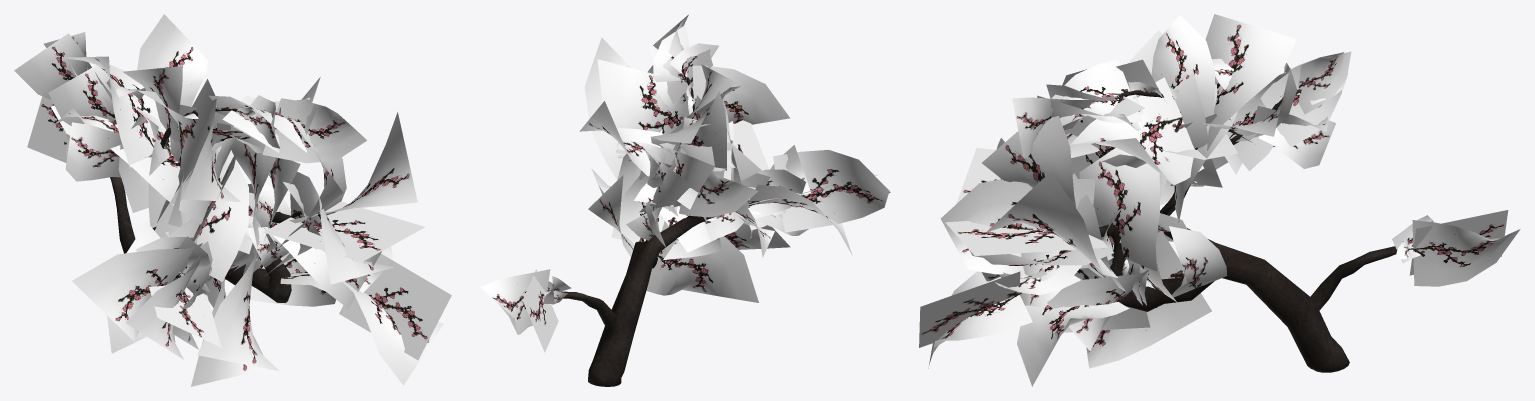
Rendered from Arbol.obj.
3 views of the same model, side by side, from view 1: azimuth 30°, elevation 25°; view 2: azimuth 150°, elevation 25°; view 3: azimuth 270°, elevation 25° (orthographic). The views are drawn at different scales.
Parts seen in each view (by area): view 1: group2 Plane081, group2 Plane031, group2 Plane025, group2 Plane032, group2 Plane016, group2 Plane071, group2 Plane068, group2 Plane042, group2 Plane020, group2 Plane005, group2 Loft001, group2 Plane011 (+33 smaller); view 2: group2 Loft001, group2 Plane081, group2 Plane070, group2 Plane056, group2 Plane061, group2 Plane042, group2 Plane011, group2 Plane068, group2 Plane029, group2 Plane020, group2 Plane035, group2 Plane054 (+26 smaller); view 3: group2 Loft001, group2 Plane067, group2 Plane042, group2 Plane056, group2 Plane029, group2 Plane070, group2 Plane005, group2 Plane075, group2 Plane068, group2 Plane021, group2 Plane072, group2 Plane031 (+26 smaller).
Part boxes in pixels (<box>): group2 Plane081: <box>72,243,202,340</box>; group2 Plane031: <box>339,253,451,360</box>; group2 Plane025: <box>154,146,248,281</box>; group2 Plane032: <box>263,201,425,261</box>; group2 Plane016: <box>262,98,366,163</box>; group2 Plane071: <box>197,243,279,371</box>; group2 Plane068: <box>289,112,417,223</box>; group2 Plane042: <box>62,56,160,167</box>; group2 Plane020: <box>137,14,208,106</box>; group2 Plane005: <box>290,171,394,284</box>; group2 Loft001: <box>75,75,295,302</box>; group2 Plane011: <box>65,122,121,181</box>; group2 Loft001: <box>561,77,753,386</box>; group2 Plane081: <box>773,150,889,232</box>; group2 Plane070: <box>646,221,758,302</box>; group2 Plane056: <box>597,59,701,134</box>; group2 Plane061: <box>692,65,789,124</box>; group2 Plane042: <box>650,91,726,170</box>; group2 Plane011: <box>679,170,758,217</box>; group2 Plane068: <box>584,37,631,179</box>; group2 Plane029: <box>480,269,550,334</box>; group2 Plane020: <box>579,101,660,176</box>; group2 Plane035: <box>522,269,558,352</box>; group2 Plane054: <box>645,148,691,208</box>; group2 Loft001: <box>1011,89,1415,372</box>; group2 Plane067: <box>1079,147,1159,271</box>; group2 Plane042: <box>1205,14,1296,150</box>; group2 Plane056: <box>1070,77,1204,184</box>; group2 Plane029: <box>1412,220,1520,286</box>; group2 Plane070: <box>1086,231,1211,368</box>; group2 Plane005: <box>940,178,1095,274</box>; group2 Plane075: <box>982,116,1076,207</box>; group2 Plane068: <box>986,171,1117,277</box>; group2 Plane021: <box>1151,15,1214,117</box>; group2 Plane072: <box>1017,275,1129,386</box>; group2 Plane031: <box>919,271,1020,347</box>.
Bounding box in the file's own units: 93.75 × 83.27 × 144.
2 materials, 2 textured.
